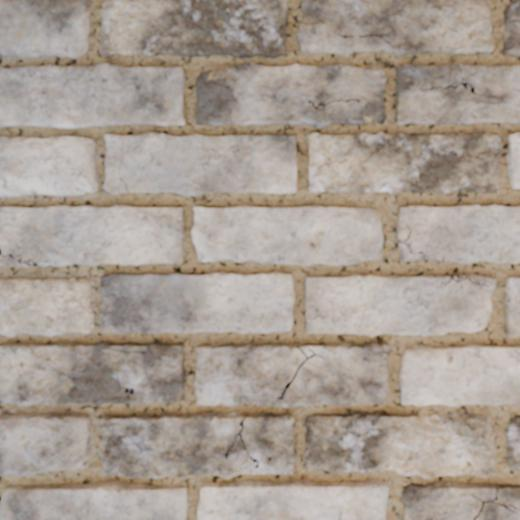brick: (305, 410, 494, 478), (99, 412, 296, 477), (195, 342, 388, 406), (0, 63, 185, 128), (196, 63, 385, 126), (104, 133, 296, 195), (308, 132, 501, 193), (306, 274, 495, 336), (0, 341, 185, 404), (100, 272, 293, 332), (192, 205, 382, 264), (0, 205, 184, 265), (298, 0, 493, 55), (100, 0, 287, 57), (198, 480, 388, 519), (400, 344, 519, 405), (397, 65, 519, 124), (397, 205, 519, 263), (0, 482, 187, 519), (0, 275, 94, 337), (402, 482, 519, 519), (504, 0, 519, 56), (505, 276, 519, 336), (506, 415, 519, 469), (507, 133, 519, 187), (0, 256, 27, 266), (300, 345, 311, 355)
broken_brick: (0, 136, 98, 197), (0, 413, 91, 476), (0, 0, 90, 58)
crack: (277, 344, 325, 402), (469, 487, 518, 519), (222, 415, 248, 460), (0, 247, 41, 267), (398, 223, 423, 254), (444, 274, 489, 288), (98, 343, 145, 353), (117, 157, 129, 192), (65, 57, 77, 65), (38, 61, 53, 66), (10, 58, 24, 63), (0, 52, 3, 64), (102, 188, 108, 194)
